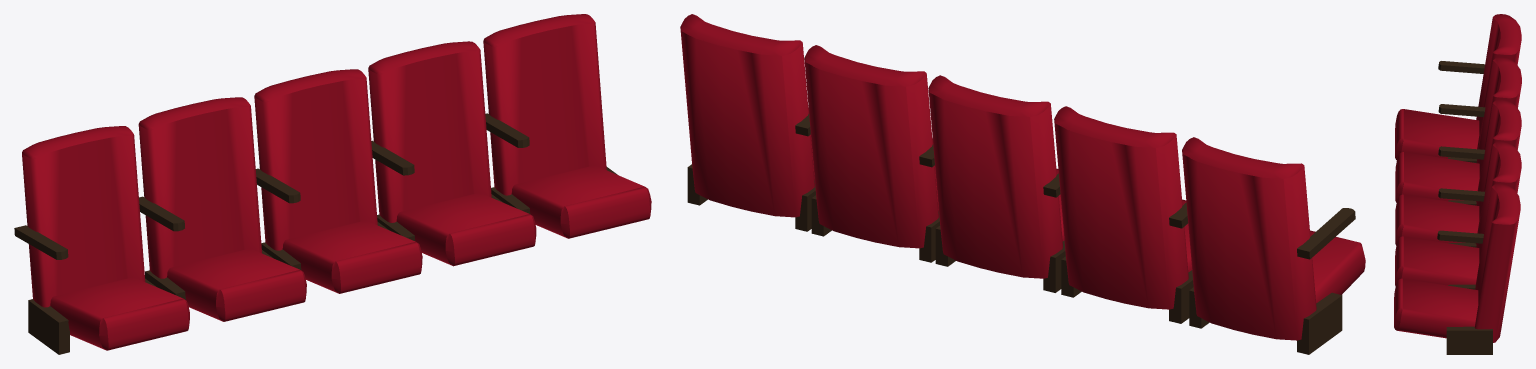
Rendered from seat5.dae.
The picture shows the model from 3 angles, left to right: view 1: azimuth 30°, elevation 25°; view 2: azimuth 150°, elevation 25°; view 3: azimuth 270°, elevation 25°; orthographic projection. The views are drawn at different scales.
Visible parts, largest first — view 1: group_3 (×5), group_4 (×5), group_2 (×5), group_1; view 2: group_3 (×5), group_4, group_1, group_2, group_5, group_6, group_8, group_7; view 3: group_4 (×5), group_3 (×5), group_2 (×5), group_8.
Part boxes in pixels (x1=…): group_3 (×5): x1=22, y1=14, x2=606, y2=307; group_4 (×5): x1=50, y1=165, x2=651, y2=350; group_2 (×5): x1=14, y1=113, x2=529, y2=259; group_1: x1=28, y1=299, x2=69, y2=354; group_3 (×5): x1=680, y1=14, x2=1316, y2=340; group_4: x1=1310, y1=230, x2=1365, y2=302; group_1: x1=1297, y1=292, x2=1342, y2=354; group_2: x1=1297, y1=208, x2=1355, y2=259; group_5: x1=1169, y1=270, x2=1193, y2=323; group_6: x1=1043, y1=240, x2=1065, y2=292; group_8: x1=795, y1=180, x2=815, y2=231; group_7: x1=919, y1=211, x2=939, y2=262; group_4 (×5): x1=1394, y1=109, x2=1479, y2=338; group_3 (×5): x1=1474, y1=14, x2=1521, y2=342; group_2 (×5): x1=1437, y1=61, x2=1485, y2=243; group_8: x1=1446, y1=326, x2=1492, y2=354.
Bounding box in the file's own units: 104 × 26.32 × 30.17.
